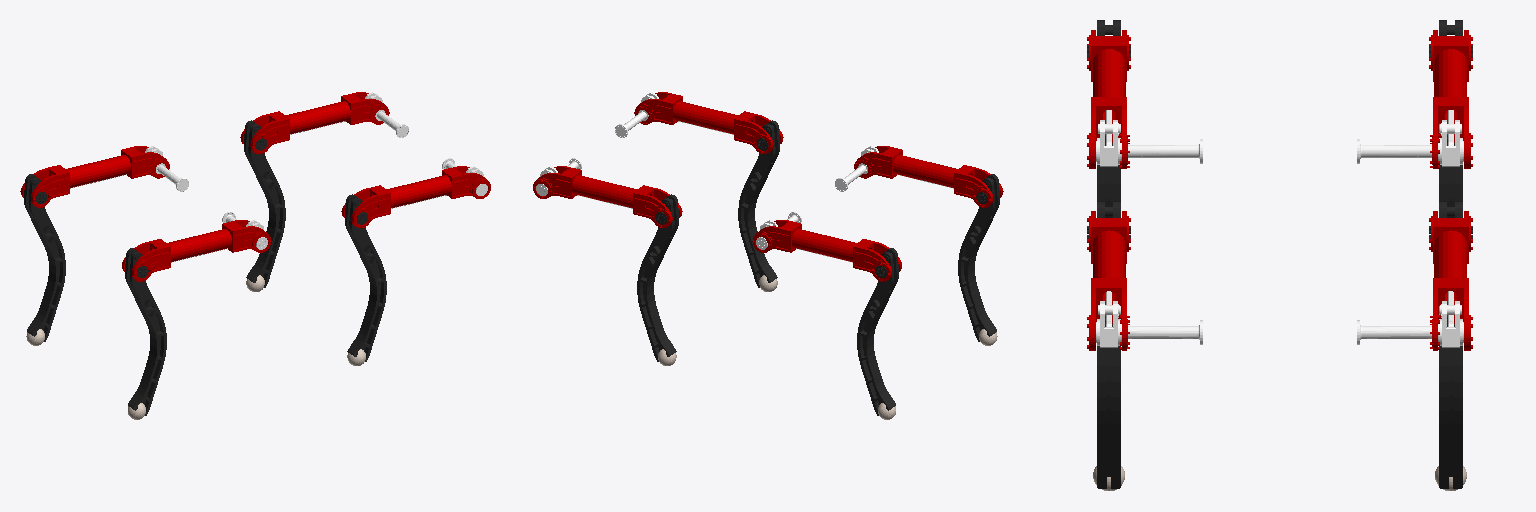
--- Facts derived from the render (not from the file) ---
The picture shows the robot from 3 angles, left to right: view 1: azimuth 30°, elevation 25°; view 2: azimuth 150°, elevation 25°; view 3: azimuth 270°, elevation 25°; orthographic projection.
Robot: aidinviii — 25 links, 24 joints (12 revolute, 12 fixed); root link aidinviii_body; default pose: every joint at zero.
Links seen in each view (by area): view 1: RB_Hip, RF_Hip, LF_Hip, LB_Hip, LB_Knee, RB_Knee, RF_Knee, LF_Knee; view 2: LB_Hip, LF_Hip, RB_Hip, RF_Hip, RB_Knee, LB_Knee, LF_Knee, RF_Knee; view 3: RB_Hip, LB_Hip, RF_Hip, LF_Hip, LF_Knee, RF_Knee, LF_link1, RF_link1, RB_link1, LB_link1, RB_Knee, LB_Knee.
Boxes of the visible links, bbox=[...] form: RB_Hip: bbox=[122, 220, 271, 281]; RF_Hip: bbox=[341, 166, 490, 227]; LF_Hip: bbox=[240, 92, 389, 153]; LB_Hip: bbox=[20, 146, 169, 207]; LB_Knee: bbox=[24, 174, 65, 341]; RB_Knee: bbox=[125, 248, 166, 415]; RF_Knee: bbox=[345, 194, 386, 361]; LF_Knee: bbox=[244, 120, 285, 287]; LB_Hip: bbox=[752, 220, 901, 281]; LF_Hip: bbox=[533, 166, 682, 227]; RB_Hip: bbox=[854, 146, 1003, 207]; RF_Hip: bbox=[634, 92, 783, 153]; RB_Knee: bbox=[958, 174, 999, 341]; LB_Knee: bbox=[857, 248, 898, 415]; LF_Knee: bbox=[637, 194, 678, 361]; RF_Knee: bbox=[738, 120, 779, 287]; RB_Hip: bbox=[1087, 30, 1130, 168]; LB_Hip: bbox=[1429, 30, 1472, 168]; RF_Hip: bbox=[1087, 211, 1130, 350]; LF_Hip: bbox=[1429, 211, 1472, 350]; LF_Knee: bbox=[1429, 202, 1472, 488]; RF_Knee: bbox=[1087, 202, 1130, 488]; LF_link1: bbox=[1357, 301, 1463, 347]; RF_link1: bbox=[1096, 301, 1202, 347]; RB_link1: bbox=[1096, 120, 1202, 166]; LB_link1: bbox=[1357, 120, 1463, 166]; RB_Knee: bbox=[1087, 20, 1130, 217]; LB_Knee: bbox=[1429, 20, 1472, 217].
Size in the robot's own frame: 1.05 by 0.5794 by 0.475 metres.
Meshes: 11 distinct files referenced, 16 mesh visuals loaded (6 binary STL); not drawn: 5 (reference not matched to a file when rendering).

URDF robot description (aidinviii):
<?xml version="1.0" ?>
<robot name="aidinviii">
  <material name="black">
    <color rgba="0.0 0.0 0.0 1.0"/>
  </material>
  <material name="blue">
    <color rgba="0.0 0.0 0.8 1.0"/>
  </material>
  <material name="green">
    <color rgba="0.0 0.8 0.0 1.0"/>
  </material>
  <material name="grey">
    <color rgba="0.2 0.2 0.2 1.0"/>
  </material>
  <material name="silver">
    <color rgba="0.913725490196 0.913725490196 0.847058823529 1.0"/>
  </material>
  <material name="orange">
    <color rgba="1.0 0.423529411765 0.0392156862745 1.0"/>
  </material>
  <material name="brown">
    <color rgba="0.870588235294 0.811764705882 0.764705882353 1.0"/>
  </material>
  <material name="red">
    <color rgba="0.8 0.0 0.0 1.0"/>
  </material>
  <material name="yellow">
    <color rgba="0.8 0.8 0.0 1.0"/>
  </material>
  <material name="white">
    <color rgba="1.0 1.0 1.0 1.0"/>
  </material>
<!--//////////////////////////////// L I N K S ////////////////////////////////-->
<!--////////////////////////////////   Body    ////////////////////////////////-->
  <link name="aidinviii_body">
    <inertial>
      <mass value="12.3188555"/>
<!--      <origin xyz="0 0 0" rpy="0 0 0"/>-->
      <origin xyz="0.00142 -0.00222 -0.04319" rpy="0 0 0"/>
      <inertia ixx="0.1104557116459" ixy="0.0002742627834" ixz="-0.0007826805716" iyy="0.2925866863396" iyz="-0.0018014327089" izz="0.3259809298915"/>
    </inertial>
    <collision name="body_1">
      <origin xyz="0.4174 0     1" rpy="0 0 0"/>
      <geometry>
        <box size="0.026 0.318 0.207"/>
      </geometry>
    </collision>
    <collision name="body_2">
      <origin xyz="-0.4174  0      1" rpy="0 0 0"/>
      <geometry>
        <box size="0.026 0.318 0.207"/>
      </geometry>
    </collision>
    <collision name="body_3">
      <origin xyz="0    0.119 1.085" rpy="0      1.57079 0"/>
      <geometry>
        <cylinder radius="0.0102" length="0.8848"/>
      </geometry>
    </collision>
    <collision name="body_4">
      <origin xyz="0    0.119 0.915" rpy="0      1.57079 0"/>
      <geometry>
        <cylinder radius="0.0102" length="0.8848"/>
      </geometry>
    </collision>
    <collision name="body_5">
      <origin xyz="0    -0.119  1.085" rpy="0      1.57079 0"/>
      <geometry>
        <cylinder radius="0.0102" length="0.8848"/>
      </geometry>
    </collision>
    <collision name="body_6">
      <origin xyz="0    -0.119  0.915" rpy="0      1.57079 0"/>
      <geometry>
        <cylinder radius="0.0102" length="0.8848"/>
      </geometry>
    </collision>
    <collision name="body_7" >
      <origin xyz="0 0 1" rpy="0 0 0"/>
      <geometry>
        <mesh filename="../meshes/meshes_surface/Body_AIDIN8.STL" scale="1 1 1"/>
      </geometry>
    </collision>
    <visual name="body_visual">
      <origin xyz="0 0 1" rpy="0 0 0"/>
      <geometry>
        <mesh filename="../meshes/meshes_surface/Body_AIDIN8.STL" scale="1 1 1"/>
      </geometry>
      <material name="silver"/>
    </visual>
  </link>

<!--//////////////////////////////// LF ////////////////////////////////-->

  <link name="LF_Scapular">
    <inertial>
      <mass value="6.3549628"/>
      <origin xyz="0.00223 -0.00011 -0.03491" rpy="0 0 0"/>
      <inertia ixx="0.0268822823205"
               ixy="0.0000315138420"
               ixz="-0.0010398645982"
               iyy="0.0388571979436"
               iyz="-0.0000013704590"
               izz="0.01899889911081"/>
    </inertial>
    <collision name="LF_col1">
      <origin xyz="0      0     -0.0507" rpy="0 0 0"/>
      <geometry>
        <cylinder length="0.2334" radius="0.0535"/>
      </geometry>
    </collision>
    <collision name="LF_col2">
      <origin rpy="0       1.57079  0" xyz="0.0083  0      0"/>
      <geometry>
        <cylinder length="0.1984" radius="0.0535"/>
      </geometry>
    </collision>
    <visual name="LF_Scapular_vis">
      <origin rpy="0  0  0" xyz="0  0  0"/>
      <geometry>
        <mesh filename="../meshes/meshes_surface/Leg_Scapular_LF_stp_v2.STL" scale="1 1 1"/>
      </geometry>
      <material name="black"/>
    </visual>
  </link>

  <link name="LF_Hip">
    <inertial>
      <mass value="0.8592967"/>
      <origin xyz="1.7531e-01 -1.4970e-02 -1.2000e-04" rpy="0 0 0"/>
      <inertia ixx="0.0007326198857" ixy="0.0000038940144" ixz="0.0000188178556" iyy="0.0157450190446" iyz="-0.0000015777889" izz="0.0157308802467"/>
    </inertial>
    <collision name="LF_col3">
      <origin rpy="0  0  0" xyz="0  0  0"/>
      <geometry>
        <cylinder length="0.054" radius="0.027"/>
      </geometry>
    </collision>
    <collision name="LF_col4">
      <origin rpy="0  0  0" xyz="0.055 -0.021  0"/>
      <geometry>
        <box size="0.06 0.06 0.054"/>
      </geometry>
    </collision>
    <collision name="LF_col5">
      <origin rpy="0       1.57079  0" xyz="0.175 -0.021  0"/>
      <geometry>
        <cylinder length="0.18" radius="0.025"/>
      </geometry>
    </collision>
    <collision name="LF_col6">
      <origin rpy="0  0  0" xyz="0.295 -0.021  0"/>
      <geometry>
        <box size="0.06 0.06 0.054"/>
      </geometry>
    </collision>
    <collision name="LF_col7">
      <origin rpy="0  0  0" xyz="0.35    0      0.0245"/>
      <geometry>
        <cylinder length="0.011" radius="0.027"/>
      </geometry>
    </collision>
    <collision name="LF_col8">
      <origin rpy="0  0  0" xyz="0.35    0     -0.0245"/>
      <geometry>
        <cylinder length="0.011" radius="0.027"/>
      </geometry>
    </collision>
    <visual name="LF_Hip_vis">
      <origin rpy="0  0  0" xyz="0  0  0"/>
      <geometry>
        <mesh filename="../meshes/meshes_surface/Leg_Hip_left_stp.STL" scale="1 1 1"/>
      </geometry>
      <material name="red"/>
    </visual>
  </link>

  <link name="LF_Knee">
    <inertial>
      <mass value="0.6608339"/>
      <origin xyz="0.12972 0.01155 0" rpy="0 0 0"/>
      <inertia ixx="0.0004751764324" ixy="0.0012723021758" ixz="-0.0000000145887" iyy="0.0121223799746" iyz="-0.0000000021118" izz="0.0123849356151"/>
    </inertial>
    <collision name="LF_col9">
      <origin rpy="0  0  0" xyz="0.4  0   0"/>
      <geometry>
        <sphere length="0.04" radius="0.024"/>
      </geometry>
    </collision>
    <collision name="LF_col10">
      <origin rpy="0  0  0" xyz="0  0  0"/>
      <geometry>
        <mesh filename="../meshes/meshes_surface/Leg_Knee_stp.STL" scale="1 1 1"/>
      </geometry>
    </collision>
    <visual name="LF_Knee_vis">
      <origin rpy="0  0  0" xyz="0  0  0"/>
      <geometry>
        <mesh filename="../meshes/meshes_surface/Leg_Knee_stp.STL" scale="1 1 1"/>
      </geometry>
      <material name="grey"/>
    </visual>
  </link>

<!--  FOOT  -->

  <joint name="LFJ6" type="fixed">
    <origin rpy="0 0 0" xyz="0.4 0 0"/>
    <parent link="LF_Knee"/>
    <child link="LF_Foot"/>
  </joint>

  <link name="LF_Foot">
    <inertial>
      <mass value="0.01"/>
      <inertia ixx="0" ixy="0.0" ixz="0.0" iyy="0" iyz="0.0" izz="0"/>
    </inertial>
    <collision name="LF_col9">
      <origin rpy="0  0  0" xyz="0  0   0"/>
      <geometry>
        <sphere radius="0.024"/>
      </geometry>
    </collision>
    <visual name="LF_Foot_vis">
      <origin rpy="0  0  0" xyz="0  0   0"/>
      <geometry>
        <sphere radius="0.024"/>
      </geometry>
      <material name="brown"/>
    </visual>
  </link>


  <link name="LF_link1">
    <inertial>
      <mass value="0.356529"/>
      <origin xyz="0.00728 -0.00049  0.03154" rpy="0 0 0"/>
      <inertia ixx="0.0009733125313" ixy="0.0000022519068" ixz="-0.0000814612402" iyy="0.0010405526310" iyz="0.0000057129200" izz="0.0001182849391"/>
    </inertial>
    <visual name="LF_link1_vis">
      <origin rpy="0  0  0" xyz="0  0  0"/>
      <geometry>
        <mesh filename="../meshes/meshes_surface/Knee_link1_left_stp.STL" scale="1 1 1"/>
      </geometry>
      <material name="white"/>
    </visual>
  </link>

  <link name="LF_link2">
    <inertial>
      <mass value="0.20931"/>
      <origin rpy="0  0  0" xyz="0.175  0     0"/>
      <inertia ixx="0.00000747991" ixy="0" ixz="0" iyy="0.00238918720" iyz="0" izz="0.00239407889"/>
    </inertial>
    <visual name="LF_link2_vis">
      <origin xyz="-0.35  0    0" rpy="0 0 0"/>
      <geometry>
        <mesh filename="../meshes/meshes_surface/Knee_link2_stp.STL" scale="1 1 1"/>
      </geometry>
      <material name="white"/>
    </visual>
  </link>

<!--//////////////////////////////// RF ////////////////////////////////-->
  <link name="RF_Scapular">
    <inertial>
      <mass value="6.3549628"/>
      <origin xyz="2.22e-03 -7.00e-05 -3.49e-02" rpy="0 0 0"/>
      <inertia ixx="0.0268838092963" ixy="-0.0000090031909" ixz="0.0010319405579" iyy="0.0388589753376" iyz="0.0000168509340" izz="0.0189992476926"/>
    </inertial>
    <collision name="RF_col1">
      <origin rpy="0  0  0" xyz="0      0     -0.0507"/>
      <geometry>
        <cylinder length="0.2334" radius="0.0535"/>
      </geometry>
    </collision>
    <collision name="RF_col2">
      <origin rpy="0       1.57079  0" xyz="0.0083  0      0"/>
      <geometry>
        <cylinder length="0.1984" radius="0.0535"/>
      </geometry>
    </collision>
    <visual name="RF_Scapular_vis">
      <origin rpy="0  0  0" xyz="0  0  0"/>
      <geometry>
        <mesh filename="../meshes/meshes_surface/Leg_Scapular_RF_stp_v2.STL" scale="1 1 1"/>
      </geometry>
      <material name="black"/>
    </visual>
  </link>
  <link name="RF_Hip">
    <inertial>
      <mass value="0.8592967"/>
      <origin xyz="1.7531e-01 -1.4970e-02  1.2000e-04" rpy="0 0 0"/>
      <inertia ixx="0.0007326198866" ixy="0.0000038940144" ixz="-0.0000188175364" iyy="0.0157450190455" iyz="0.0000015777233" izz="0.0157308802469"/>
    </inertial>
    <collision name="RF_col3">
      <origin rpy="0 0 0" xyz="0 0 0"/>
      <geometry>
        <cylinder length="0.054" radius="0.027"/>
      </geometry>
    </collision>
    <collision name="RF_col4">
      <origin xyz="0.055 -0.021  0" rpy="0 0 0"/>
      <geometry>
        <box size="0.06 0.06 0.054"/>
      </geometry>
    </collision>
    <collision name="RF_col5">
      <origin xyz="0.175 -0.021  0" rpy="0      1.57079 0"/>
      <geometry>
        <cylinder radius="0.025" length="0.18"/>
      </geometry>
    </collision>
    <collision name="RF_col6">
      <origin xyz="0.295 -0.021  0" rpy="0 0 0"/>
      <geometry>
        <box size="0.06 0.06 0.054"/>
      </geometry>
    </collision>
    <collision name="RF_col7">
      <origin xyz="0.35   0     0.0245" rpy="0 0 0"/>
      <geometry>
        <cylinder radius="0.027" length="0.011"/>
      </geometry>
    </collision>
    <collision name="RF_col8">
      <origin xyz="0.35    0     -0.0245" rpy="0 0 0"/>
      <geometry>
        <cylinder radius="0.027" length="0.011"/>
      </geometry>
    </collision>
    <visual name="RF_Hip_vis">
      <origin rpy="0  0  0" xyz="0  0  0"/>
      <geometry>
        <mesh filename="../meshes/meshes_surface/Leg_Hip_right_stp.STL" scale="1 1 1"/>
      </geometry>
      <material name="red"/>
    </visual>
  </link>
  <link name="RF_Knee">
    <inertial>
      <mass value="0.6608339"/>
      <origin xyz="0.12972 0.01155 0" rpy="0 0 0"/>
      <inertia ixx="0.0004751764324" ixy="0.0012723021758" ixz="-0.0000000145887" iyy="0.0121223799746" iyz="-0.0000000021118" izz="0.0123849356151"/>
    </inertial>
<!--    <collision name="RF_col9">-->
<!--      <origin xyz="0.4 0  0" rpy="0 0 0"/>-->
<!--      <geometry>-->
<!--        <sphere radius="0.024"/>-->
<!--      </geometry>-->
<!--    </collision>-->
    <collision name="RF_col10">
      <origin rpy="0  0  0" xyz="0  0  0"/>
      <geometry>
        <mesh filename="../meshes/meshes_surface/Leg_Knee_stp.STL" scale="1 1 1"/>
      </geometry>
    </collision>
    <visual name="RF_Knee_vis">
      <origin rpy="0  0  0" xyz="0  0  0"/>
      <geometry>
        <mesh filename="../meshes/meshes_surface/Leg_Knee_stp.STL" scale="1 1 1"/>
      </geometry>
      <material name="grey"/>
    </visual>
  </link>

<!--  FOOT  -->

  <joint name="RFJ6" type="fixed">
    <origin rpy="0 0 0" xyz="0.4 0 0"/>
    <parent link="RF_Knee"/>
    <child link="RF_Foot"/>
  </joint>

  <link name="RF_Foot">
    <inertial>
      <mass value="0.01"/>
      <inertia ixx="0" ixy="0.0" ixz="0.0" iyy="0" iyz="0.0" izz="0"/>
    </inertial>
    <collision name="RF_col9">
      <origin rpy="0  0  0" xyz="0  0   0"/>
      <geometry>
        <sphere radius="0.024"/>
      </geometry>
    </collision>
    <visual name="RF_Foot_vis">
      <origin rpy="0  0  0" xyz="0  0   0"/>
      <geometry>
        <sphere radius="0.024"/>
      </geometry>
      <material name="brown"/>
    </visual>
  </link>

  <link name="RF_link1">
    <inertial>
      <mass value="0.356529"/>
      <origin xyz="0.00726 -0.00049 -0.03152" rpy="0 0 0"/>
      <inertia ixx="0.0009737671712" ixy="0.0000021895727" ixz="0.0000821138402" iyy="0.0010410742162" iyz="-0.0000057093198" izz="0.0001183464867"/>
    </inertial>
    <visual name="RF_link1_vis">
      <origin xyz="0 0 0" rpy="0 0 0"/>
      <geometry>
        <mesh filename="../meshes/meshes_surface/Knee_link1_right_stp.STL" scale="1 1 1"/>
      </geometry>
      <material name="white"/>
    </visual>
  </link>
  <link name="RF_link2">
    <inertial>
      <mass value="0.20931"/>
      <origin xyz="0.175 0    0" rpy="0 0 0"/>
      <inertia ixx="0.00000747991" ixy="0" ixz="0" iyy="0.00238918720" iyz="0" izz="0.00239407889"/>
    </inertial>
    <visual name="RF_link2_vis">
      <origin xyz="-0.35  0    0" rpy="0 0 0"/>
      <geometry>
        <mesh filename="../meshes/meshes_surface/Knee_link2_stp.STL" scale="1 1 1"/>
      </geometry>
      <material name="white"/>
    </visual>
  </link>

<!--//////////////////////////////// RB ////////////////////////////////-->
  <link name="RB_Scapular">
    <inertial>
      <mass value="6.3549628"/>
      <origin xyz="0.00223 0.00011 0.03491" rpy="0 0 0"/>
      <inertia ixx="0.0268822823505" ixy="-0.0000315138420" ixz="-0.0010398645982" iyy="0.0388571979436" iyz="-0.0000013704590" izz="0.0189988991081"/>
    </inertial>
    <collision name="RB_col1">
      <origin rpy="0  0  0" xyz="0      0      0.0507"/>
      <geometry>
        <cylinder length="0.2334" radius="0.0535"/>
      </geometry>
    </collision>
    <collision name="RB_col2">
      <origin rpy="0       1.57079  0" xyz="0.0083  0      0"/>
      <geometry>
        <cylinder length="0.1984" radius="0.0535"/>
      </geometry>
    </collision>
    <visual name="RB_Scapular_vis">
      <origin rpy="0  0  0" xyz="0  0  0"/>
      <geometry>
        <mesh filename="../meshes/meshes_surface/Leg_Scapular_RR_stp_v2.STL" scale="1 1 1"/>
      </geometry>
      <material name="black"/>
    </visual>
  </link>
  <link name="RB_Hip">
    <inertial>
      <mass value="0.8592967"/>
      <origin xyz="1.7531e-01 -1.4970e-02  1.2000e-04" rpy="0 0 0"/>
      <inertia ixx="0.0007326198866" ixy="0.0000038940144" ixz="-0.0000188175364" iyy="0.0157450190455" iyz="0.0000015777233" izz="0.0157308802469"/>
    </inertial>
    <collision name="RB_col3">
      <origin rpy="0  0  0" xyz="0  0  0"/>
      <geometry>
        <cylinder length="0.054" radius="0.027"/>
      </geometry>
    </collision>
    <collision name="RB_col4">
      <origin xyz="0.055 -0.021  0" rpy="0 0 0"/>
      <geometry>
        <box size="0.06 0.06 0.054"/>
      </geometry>
    </collision>
    <collision name="RB_col5">
      <origin rpy="0       1.57079  0" xyz="0.175 -0.021  0"/>
      <geometry>
        <cylinder length="0.18" radius="0.025"/>
      </geometry>
    </collision>
    <collision name="RB_col6">
      <origin rpy="0  0  0" xyz="0.295 -0.021  0"/>
      <geometry>
        <box size="0.06 0.06 0.054"/>
      </geometry>
    </collision>
    <collision name="RB_col7">
      <origin rpy="0  0  0" xyz="0.35    0      0.0245"/>
      <geometry>
        <cylinder length="0.011" radius="0.027"/>
      </geometry>
    </collision>
    <collision name="RB_col8">
      <origin rpy="0  0  0" xyz="0.35    0     -0.0245"/>
      <geometry>
        <cylinder length="0.011" radius="0.027"/>
      </geometry>
    </collision>
    <visual name="RB_Hip_vis">
      <origin rpy="0  0  0" xyz="0  0  0"/>
      <geometry>
        <mesh filename="../meshes/meshes_surface/Leg_Hip_right_stp.STL" scale="1 1 1"/>
      </geometry>
      <material name="red"/>
    </visual>
  </link>
  <link name="RB_Knee">
    <inertial>
      <mass value="0.6608339"/>
      <origin xyz="0.12972 0.01155 0" rpy="0 0 0"/>
      <inertia ixx="0.0004751764324" ixy="0.0012723021758" ixz="-0.0000000145887" iyy="0.0121223799746" iyz="-0.0000000021118" izz="0.0123849356151"/>
    </inertial>
<!--    <collision name="RB_col9">-->
<!--      <origin xyz="0.4 0  0" rpy="0 0 0"/>-->
<!--      <geometry>-->
<!--        <sphere radius="0.024"/>-->
<!--      </geometry>-->
<!--    </collision>-->
    <collision name="RB_col10">
      <origin rpy="0  0  0" xyz="0  0  0"/>
      <geometry>
        <mesh filename="../meshes/meshes_surface/Leg_Knee_stp.STL" scale="1 1 1"/>
      </geometry>
    </collision>
    <visual name="RB_Knee_vis">
      <origin rpy="0  0  0" xyz="0  0  0"/>
      <geometry>
        <mesh filename="../meshes/meshes_surface/Leg_Knee_stp.STL" scale="1 1 1"/>
      </geometry>
      <material name="grey"/>
    </visual>
  </link>

  <!--  FOOT  -->

  <joint name="RBJ6" type="fixed">
    <origin rpy="0 0 0" xyz="0.4 0 0"/>
    <parent link="RB_Knee"/>
    <child link="RB_Foot"/>
  </joint>

  <link name="RB_Foot">
    <inertial>
      <mass value="0.01"/>
      <inertia ixx="0" ixy="0.0" ixz="0.0" iyy="0" iyz="0.0" izz="0"/>
    </inertial>
    <collision name="RB_col9">
      <origin rpy="0  0  0" xyz="0  0   0"/>
      <geometry>
        <sphere radius="0.024"/>
      </geometry>
    </collision>
    <visual name="RB_Foot_vis">
      <origin rpy="0  0  0" xyz="0  0   0"/>
      <geometry>
        <sphere radius="0.024"/>
      </geometry>
      <material name="brown"/>
    </visual>
  </link>


  <link name="RB_link1">
    <inertial>
      <mass value="0.356529"/>
      <origin xyz="0.00726 -0.00049 -0.03152" rpy="0 0 0"/>
      <inertia ixx="0.0009737671712" ixy="0.0000021895727" ixz="0.0000821138402" iyy="0.0010410742162" iyz="-0.0000057093198" izz="0.0001183464867"/>
    </inertial>
    <visual name="RB_link1_vis">
      <origin xyz="0 0 0" rpy="0 0 0"/>
      <geometry>
        <mesh filename="../meshes/meshes_surface/Knee_link1_right_stp.STL" scale="1 1 1"/>
      </geometry>
      <material name="white"/>
    </visual>
  </link>
  <link name="RB_link2">
    <inertial>
      <mass value="0.20931"/>
      <origin xyz="0.175 0    0" rpy="0 0 0"/>
      <inertia ixx="0.00000747991" ixy="0" ixz="0" iyy="0.00238918720" iyz="0" izz="0.00239407889"/>
    </inertial>
    <visual name="RB_link2_vis">
      <origin xyz="-0.35  0    0" rpy="0 0 0"/>
      <geometry>
        <mesh filename="../meshes/meshes_surface/Knee_link2_stp.STL" scale="1 1 1"/>
      </geometry>
      <material name="white"/>
    </visual>
  </link>

<!--//////////////////////////////// LB ////////////////////////////////-->

  <link name="LB_Scapular">
    <inertial>
      <mass value="6.3549628"/>
      <origin xyz="2.22e-03 -7.00e-05  3.49e-02" rpy="0 0 0"/>
      <inertia ixx="0.0268838092963" ixy="0.0000090031909" ixz="-0.0010319405579" iyy="0.0388589753376" iyz="0.0000168509340" izz="0.0189992476926"/>
    </inertial>
    <collision name="LB_col1">
      <origin rpy="0  0  0" xyz="0      0      -0.0507"/>
      <geometry>
        <cylinder length="0.2334" radius="0.0535"/>
      </geometry>
    </collision>
    <collision name="LB_col2">
      <origin rpy="0       1.57079  0" xyz="0.0083  0      0"/>
      <geometry>
        <cylinder length="0.1984" radius="0.0535"/>
      </geometry>
    </collision>
    <visual name="LB_Scapular_vis">
      <origin rpy="0  0  0" xyz="0  0  0"/>
      <geometry>
        <mesh filename="../meshes/meshes_surface/Leg_Scapular_LR_stp_v2.STL" scale="1 1 1"/>
      </geometry>
      <material name="black"/>
    </visual>
  </link>
  <link name="LB_Hip">
    <inertial>
      <mass value="0.8592967"/>
      <origin xyz="1.7531e-01 -1.4970e-02 -1.2000e-04" rpy="0 0 0"/>
      <inertia ixx="0.0007326198857" ixy="0.0000038940144" ixz="0.0000188178556" iyy="0.0157450190446" iyz="-0.0000015777889" izz="0.0157308802467"/>
    </inertial>
    <collision name="LB_col3">
      <origin rpy="0  0  0" xyz="0  0  0"/>
      <geometry>
        <cylinder length="0.054" radius="0.027"/>
      </geometry>
    </collision>
    <collision name="LB_col4">
      <origin rpy="0  0  0" xyz="0.055 -0.021  0"/>
      <geometry>
        <box size="0.06 0.06 0.054"/>
      </geometry>
    </collision>
    <collision name="LB_col5">
      <origin rpy="0       1.57079  0" xyz="0.175 -0.021  0"/>
      <geometry>
        <cylinder length="0.18" radius="0.025"/>
      </geometry>
    </collision>
    <collision name="LB_col6">
      <origin rpy="0  0  0" xyz="0.295 -0.021  0"/>
      <geometry>
        <box size="0.06 0.06 0.054"/>
      </geometry>
    </collision>
    <collision name="LB_col7">
      <origin rpy="0  0  0" xyz="0.35    0      0.0245"/>
      <geometry>
        <cylinder length="0.011" radius="0.027"/>
      </geometry>
    </collision>
    <collision name="LB_col8">
      <origin rpy="0  0  0" xyz="0.35    0     -0.0245"/>
      <geometry>
        <cylinder length="0.011" radius="0.027"/>
      </geometry>
    </collision>
    <visual name="LB_Hip_vis">
      <origin rpy="0  0  0" xyz="0  0  0"/>
      <geometry>
        <mesh filename="../meshes/meshes_surface/Leg_Hip_left_stp.STL" scale="1 1 1"/>
      </geometry>
      <material name="red"/>
    </visual>
  </link>
  <link name="LB_Knee">
    <inertial>
      <mass value="0.6608339"/>
      <origin xyz="0.12972 0.01155 0" rpy="0 0 0"/>
      <inertia ixx="0.0004751764324" ixy="0.0012723021758" ixz="-0.0000000145887" iyy="0.0121223799746" iyz="-0.0000000021118" izz="0.0123849356151"/>
    </inertial>
    <collision name="LB_col9">
      <origin xyz="0.4 0  0" rpy="0 0 0"/>
      <geometry>
        <sphere radius="0.024"/>
      </geometry>
    </collision>
    <collision name="LB_col10">
      <origin rpy="0  0  0" xyz="0  0  0"/>
        <geometry>
          <mesh filename="../meshes/meshes_surface/Leg_Knee_stp.STL" scale="1 1 1"/>
        </geometry>
    </collision>
    <visual name="LB_Knee_vis">
      <origin rpy="0  0  0" xyz="0  0  0"/>
      <geometry>
        <mesh filename="../meshes/meshes_surface/Leg_Knee_stp.STL" scale="1 1 1"/>
      </geometry>
      <material name="grey"/>
    </visual>
  </link>

    <!--  FOOT  -->

  <joint name="LBJ6" type="fixed">
    <origin rpy="0 0 0" xyz="0.4 0 0"/>
    <parent link="LB_Knee"/>
    <child link="LB_Foot"/>
  </joint>

  <link name="LB_Foot">
    <inertial>
      <mass value="0.01"/>
      <inertia ixx="0" ixy="0.0" ixz="0.0" iyy="0" iyz="0.0" izz="0"/>
    </inertial>
    <collision name="LB_col9">
      <origin rpy="0  0  0" xyz="0  0   0"/>
      <geometry>
        <sphere radius="0.024"/>
      </geometry>
    </collision>
    <visual name="LB_Foot_vis">
      <origin rpy="0  0  0" xyz="0  0   0"/>
      <geometry>
        <sphere radius="0.024"/>
      </geometry>
      <material name="brown"/>
    </visual>
  </link>

  <link name="LB_link1">
    <inertial>
      <mass value="0.356529"/>
      <origin xyz="0.00728 -0.00049  0.03154" rpy="0 0 0"/>
      <inertia ixx="0.0009733125313" ixy="0.0000022519068" ixz="-0.0000814612402" iyy="0.0010405526310" iyz="0.0000057129200" izz="0.0001182849391"/>
    </inertial>
    <visual name="LB_link1_vis">
      <origin rpy="0  0  0" xyz="0  0  0"/>
      <geometry>
        <mesh filename="../meshes/meshes_surface/Knee_link1_left_stp.STL" scale="1 1 1"/>
      </geometry>
      <material name="white"/>
    </visual>
  </link>
  <link name="LB_link2">
    <inertial>
      <mass value="0.20931"/>
      <origin rpy="0  0  0" xyz="0.175  0     0"/>
      <inertia ixx="0.00000747991" ixy="0" ixz="0" iyy="0.00238918720" iyz="0" izz="0.00239407889"/>
    </inertial>
    <visual name="LB_link2_vis">
      <origin rpy="0  0  0" xyz="0  0    0"/>
      <geometry>
        <mesh filename="../meshes/meshes_surface/Knee_link2_stp.STL" scale="1 1 1"/>
      </geometry>
      <material name="white"/>
    </visual>
  </link>

<!--//////////////////////////////// J O I N T S ////////////////////////////////-->

  <joint name="LFJ1" type="revolute">
    <parent link="aidinviii_body"/>
    <child link="LF_Scapular"/>
    <origin xyz="0.3224 0.119  1" rpy="1.57079 0      1.57079"/>
    <axis xyz="0 0 1"/>
    <limit lower="-0.6981317008" upper="0.6981317008" effort="200.0" velocity="15.5"/>
  </joint>
  <joint name="LFJ2" type="revolute">
    <parent link="LF_Scapular"/>
    <child link="LF_Hip"/>
    <origin xyz="0.13769 0      0" rpy="1.559    1.57079  -1.58259"/>
    <axis xyz="0 0 1"/>
    <limit lower="-10.0" upper="10.0" effort="200.0" velocity="15.5"/>
  </joint>
  <joint name="LFJ3" type="fixed">
    <parent link="LF_Scapular"/>
    <child link="LF_link1"/>
    <origin xyz="0.13769 0      0" rpy="-1.57079  0.17453  1.57079"/>
    <axis xyz="0 0 1"/>
<!--    <limit lower="-10.0" upper="10.0" effort="200.0" velocity="15.5"/>-->
  </joint>
  <joint name="LFJ4" type="revolute">
    <parent link="LF_Hip"/>
    <child link="LF_Knee"/>
    <origin xyz="0.35 0   0" rpy="0      0      1.57079"/>
    <axis xyz="0 0 1"/>
    <limit lower="-1.047197551" upper="1.134464" effort="200.0" velocity="15.5"/>
  </joint>
  <joint name="LFJ5" type="fixed">
    <parent link="LF_Hip"/>
    <child link="LF_link2"/>
    <origin xyz="0   0    0" rpy="0      0      3.14159"/>
    <axis xyz="0 0 1"/>
  </joint>

  <joint name="RFJ1" type="revolute">
    <parent link="aidinviii_body"/>
    <child link="RF_Scapular"/>
    <origin xyz="0.3224 -0.119   1" rpy="-1.57079  0      -1.57079"/>
    <axis xyz="0  0  1"/>
    <limit lower="-0.6981317008" upper="0.6981317008" effort="200.0" velocity="15.5"/>
  </joint>
  <joint name="RFJ2" type="revolute">
    <parent link="RF_Scapular"/>
    <child link="RF_Hip"/>
    <origin xyz="0.13769 0      0" rpy="1.58259  1.57079 1.58259"/>
    <axis xyz="0  0  1"/>
    <limit lower="-10.0" upper="10.0" effort="200.0" velocity="15.5"/>
  </joint>
  <joint name="RFJ3" type="fixed">
    <parent link="RF_Scapular"/>
    <child link="RF_link1"/>
    <origin xyz="0.13769 0      0" rpy="-1.57079  0.17453 -1.57079"/>
    <axis xyz="0 0 1"/>
<!--    <limit lower="-10.0" upper="10.0" effort="200.0" velocity="15.5"/>-->
  </joint>
  <joint name="RFJ4" type="revolute">
    <parent link="RF_Hip"/>
    <child link="RF_Knee"/>
    <origin xyz="0.35 0   0" rpy="0      0      1.57079"/>
    <axis xyz="0 0 1"/>
    <limit lower="-1.047197551" upper="1.134464" effort="200.0" velocity="15.5"/>
<!--    <limit lower="-1.047197551" upper="1.570796327" effort="200.0" velocity="15.5"/>-->
  </joint>
  <joint name="RFJ5" type="fixed">
    <parent link="RF_Hip"/>
    <child link="RF_link2"/>
    <origin xyz="0    0    0" rpy="0      0      3.14159"/>
    <axis xyz="0 0 1"/>
  </joint>

  <joint name="RBJ1" type="revolute">
    <parent link="aidinviii_body"/>
    <child link="RB_Scapular"/>
    <origin xyz="-0.3224 -0.119   1" rpy="-1.57079  0      -1.57079"/>
    <axis xyz="0 0 1"/>
    <limit lower="-0.6981317008" upper="0.6981317008" effort="200.0" velocity="15.5"/>
  </joint>
  <joint name="RBJ2" type="revolute">
    <parent link="RB_Scapular"/>
    <child link="RB_Hip"/>
    <origin xyz="0.13769 0      0" rpy="1.58259  1.57079 1.58259"/>
    <axis xyz="0 0 1"/>
    <limit lower="-10.0" upper="10.0" effort="200.0" velocity="15.5"/>
  </joint>
  <joint name="RBJ3" type="fixed">
    <parent link="RB_Scapular"/>
    <child link="RB_link1"/>
    <origin xyz="0.13769 0      0" rpy="-1.57079  0.17453 -1.57079"/>
    <axis xyz="0 0 1"/>
  </joint>
  <joint name="RBJ4" type="revolute">
    <parent link="RB_Hip"/>
    <child link="RB_Knee"/>
    <origin xyz="0.35 0   0" rpy="0      0      1.57079"/>
    <axis xyz="0 0 1"/>
    <limit lower="-1.047197551" upper="1.134464" effort="200.0" velocity="15.5"/>
<!--    <limit lower="-1.047197551" upper="1.570796327" effort="200.0" velocity="15.5"/>-->
  </joint>
  <joint name="RBJ5" type="fixed">
    <parent link="RB_Hip"/>
    <child link="RB_link2"/>
    <origin xyz="0    0    0" rpy="0      0      3.14159"/>
    <axis xyz="0 0 1"/>
  </joint>

  <joint name="LBJ1" type="revolute">
    <parent link="aidinviii_body"/>
    <child link="LB_Scapular"/>
    <origin xyz="-0.3224  0.119   1" rpy="1.57079 0      1.57079"/>
    <axis xyz="0 0 1"/>
    <limit lower="-0.6981317008" upper="0.6981317008" effort="200.0" velocity="15.5"/>
  </joint>
  <joint name="LBJ2" type="revolute">
    <parent link="LB_Scapular"/>
    <child link="LB_Hip"/>
    <origin xyz="0.13769 0      0" rpy="1.559    1.57079  -1.58259"/>
    <axis xyz="0 0 1"/>
    <limit lower="-10.0" upper="10.0" effort="200.0" velocity="15.5"/>
  </joint>
  <joint name="LBJ3" type="fixed">
    <parent link="LB_Scapular"/>
    <child link="LB_link1"/>
    <origin xyz="0.13769 0      0" rpy="-1.57079  0.17453  1.57079"/>
    <axis xyz="0 0 1"/>
  </joint>
  <joint name="LBJ4" type="revolute">
    <parent link="LB_Hip"/>
    <child link="LB_Knee"/>
    <origin xyz="0.35 0   0" rpy="0      0      1.57079"/>
    <axis xyz="0 0 1"/>
    <limit lower="-1.047197551" upper="1.134464" effort="200.0" velocity="15.5"/>
<!--    <limit lower="-1.047197551" upper="1.570796327" effort="200.0" velocity="15.5"/>-->
  </joint>
  <joint name="LBJ5" type="fixed">
    <parent link="LB_Hip"/>
    <child link="LB_link2"/>
    <origin xyz="0    0    0" rpy="0      0      0"/>
    <axis xyz="0 0 1"/>
  </joint>

</robot>
